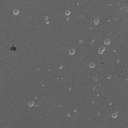corrosion: (97, 45, 107, 55), (92, 17, 101, 28), (67, 46, 76, 56), (11, 8, 21, 16), (9, 43, 17, 52), (43, 16, 51, 25), (27, 99, 36, 107), (103, 38, 111, 47), (88, 60, 96, 69), (64, 8, 71, 16), (111, 111, 118, 119), (72, 108, 79, 114), (106, 74, 112, 80), (58, 64, 64, 70), (77, 38, 83, 44), (65, 17, 71, 22), (66, 113, 71, 118), (116, 59, 120, 63)
